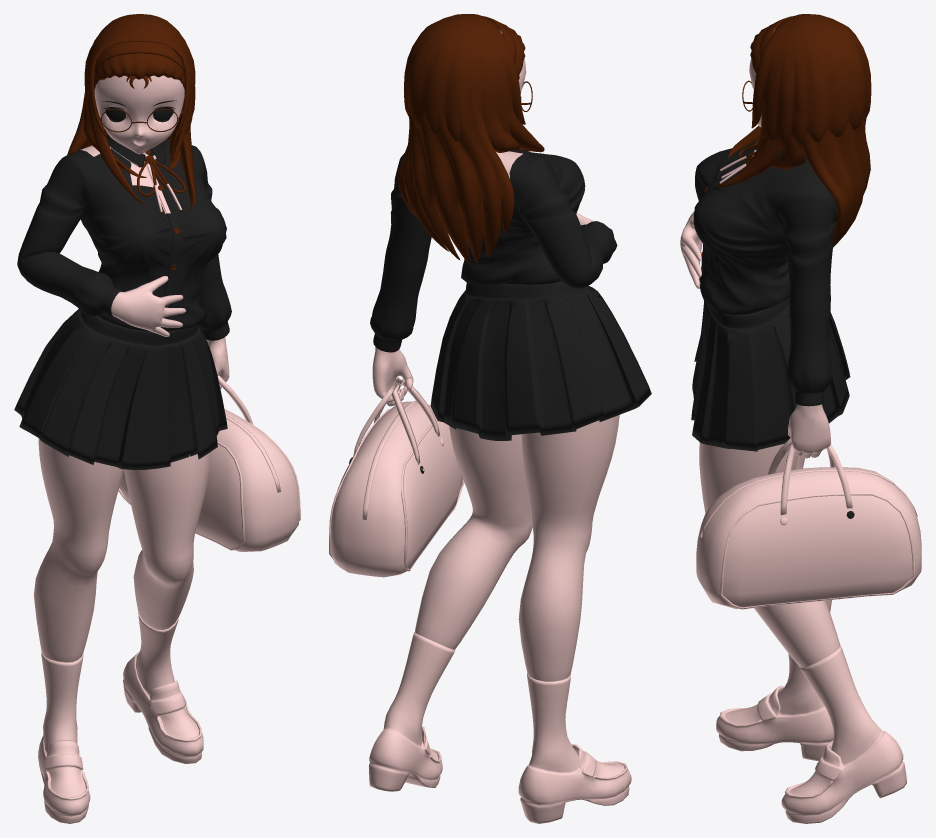
3 views of the same model, side by side, from view 1: azimuth 30°, elevation 25°; view 2: azimuth 150°, elevation 25°; view 3: azimuth 270°, elevation 25° (orthographic). The views are drawn at different scales.
Visible parts, largest first — view 1: object2, object1, object4, object3; view 2: object1, object2, object3, object4; view 3: object2, object4, object1, object3.
Part boxes in pixels (box(x1,y1,x2,y2)): object2: box(14, 100, 231, 469); object1: box(33, 75, 229, 823); object4: box(118, 155, 300, 551); object3: box(67, 14, 195, 270); object1: box(369, 30, 631, 823); object2: box(370, 81, 651, 440); object3: box(397, 14, 544, 263); object4: box(329, 151, 531, 577); object2: box(691, 82, 850, 451); object4: box(696, 156, 921, 609); object1: box(680, 29, 906, 823); object3: box(701, 14, 871, 257).
Bounding box in the file's own units: 4.67 × 12.72 × 3.59.
